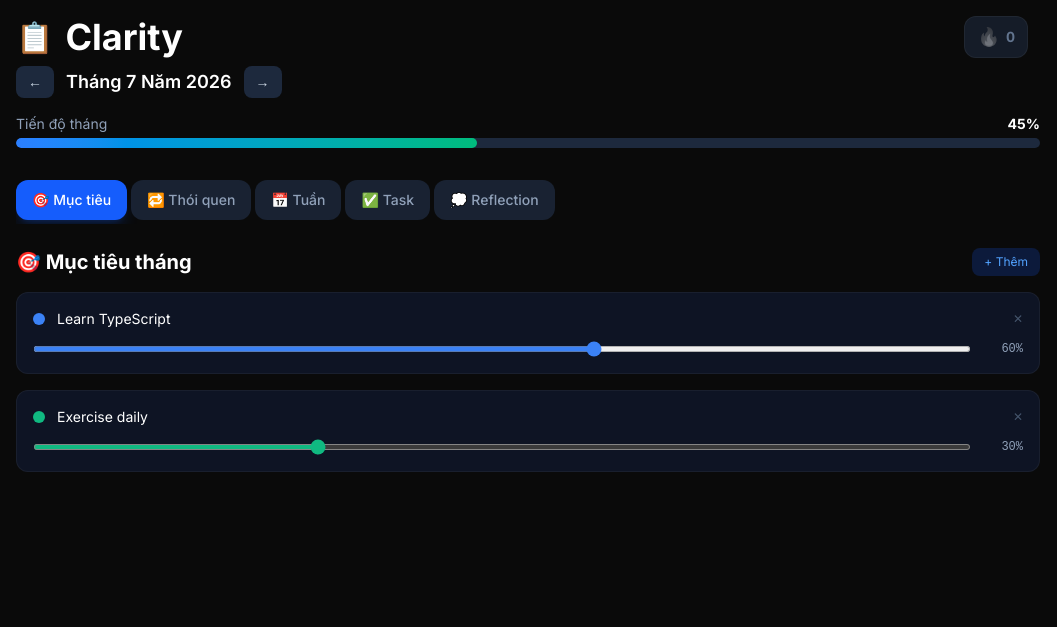
ClarityClient › switches to weekly tab
Check: the heading "Clarity" is shown, box left=65, top=17, right=183, bottom=57
Click the text "📅 Tuần": (298, 200) left=271, top=191, right=326, bottom=208
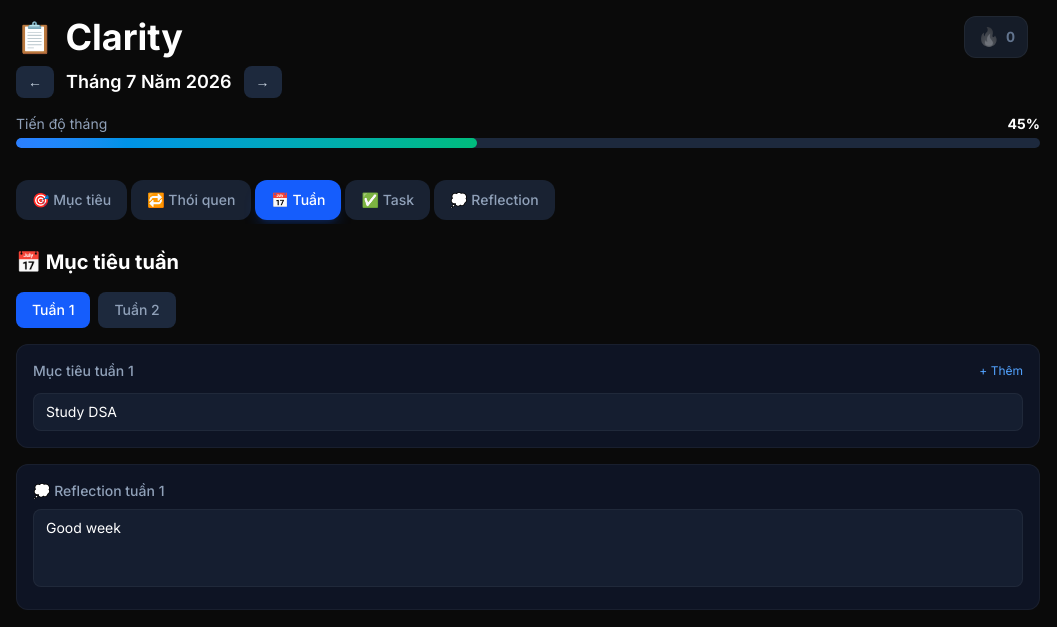
Check: the heading "📅 Mục tiêu tuần" is shown, box left=16, top=250, right=179, bottom=274
Check: the button "Tuần 1" is shown, box left=16, top=292, right=90, bottom=328
